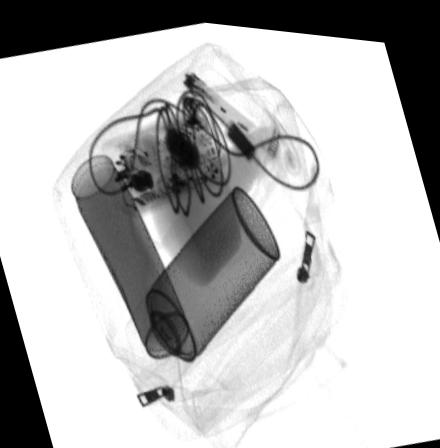Lighter: (176, 57, 256, 148)
Sprayer: (122, 183, 281, 401)
